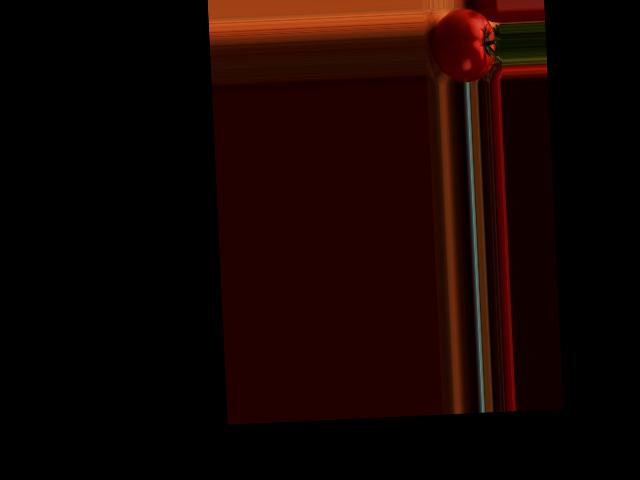tomato: (430, 6, 497, 83)
